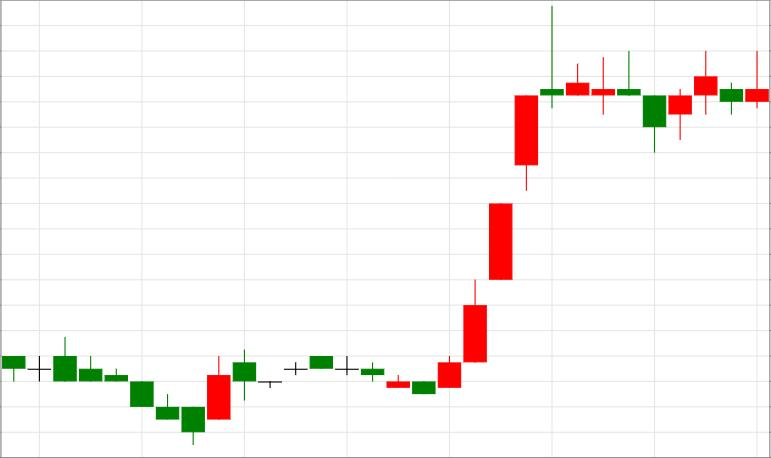three_white_soldiers_rise: (309, 96, 538, 394)
